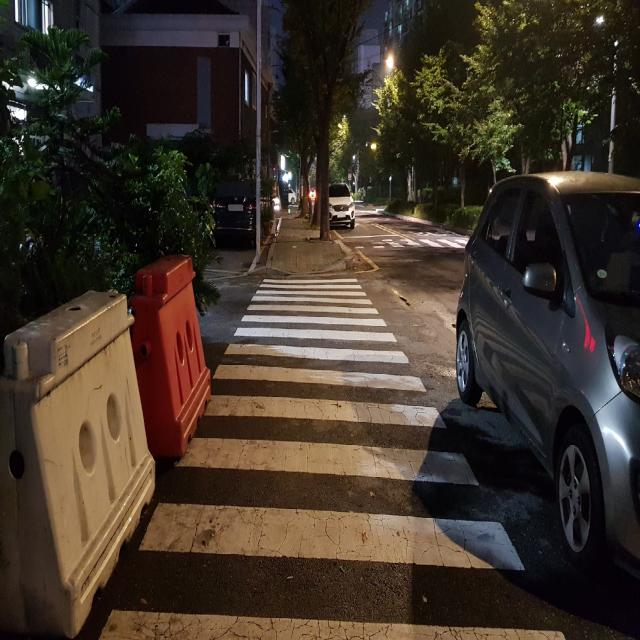횡단보도: (97, 276, 566, 640), (352, 236, 464, 249)
